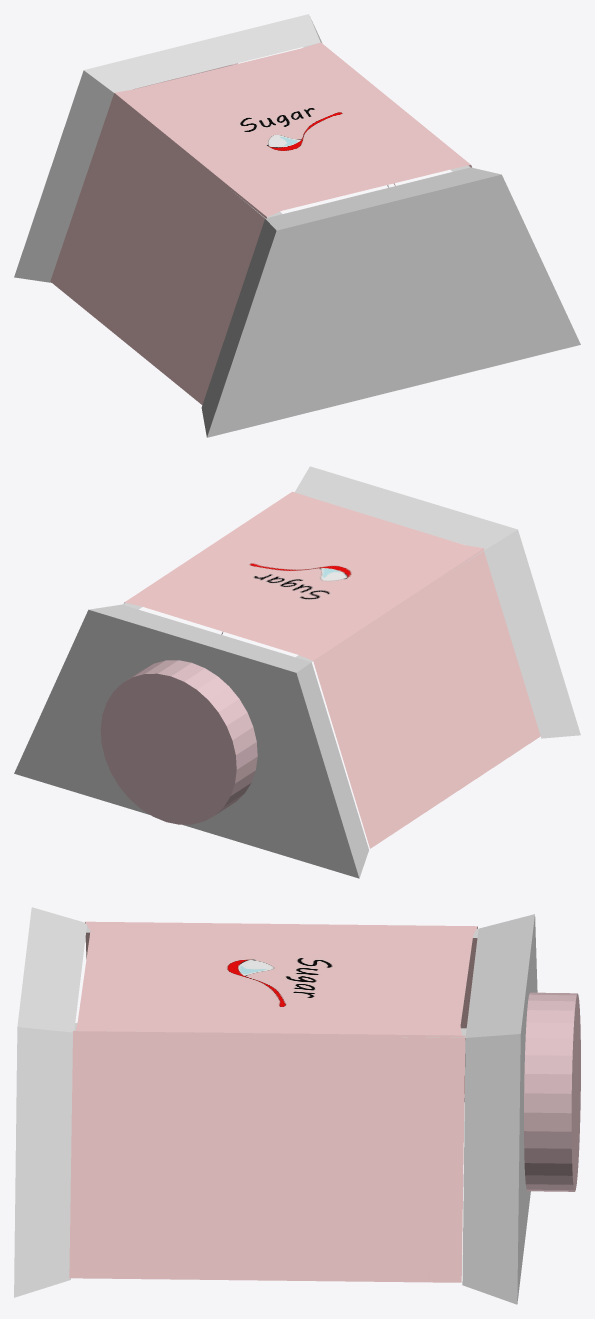
File: boxsugar.gltf
3 views of the same model, one above another, from view 1: azimuth 30°, elevation 25°; view 2: azimuth 150°, elevation 25°; view 3: azimuth 270°, elevation 25° (orthographic). The views are drawn at different scales.
Parts seen in each view (by area): view 1: Tapon; view 2: Tapon; view 3: Tapon.
Boxes of the visible parts, bbox=[...] form: Tapon: bbox=[14, 14, 580, 437]; Tapon: bbox=[14, 466, 580, 878]; Tapon: bbox=[14, 907, 580, 1304].
Bounding box in the file's own units: 2.63 × 1.33 × 2.82.
Materials: 3 (1 with a texture image).
